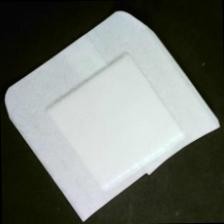Cut: (4, 9, 223, 224)
